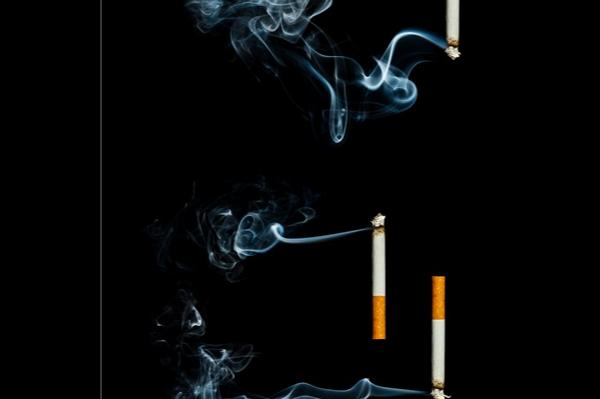Cigarette: (430, 275, 447, 399), (371, 212, 386, 339), (444, 0, 460, 57)
Smoke: (192, 0, 443, 144), (177, 346, 423, 399), (202, 200, 368, 266)
